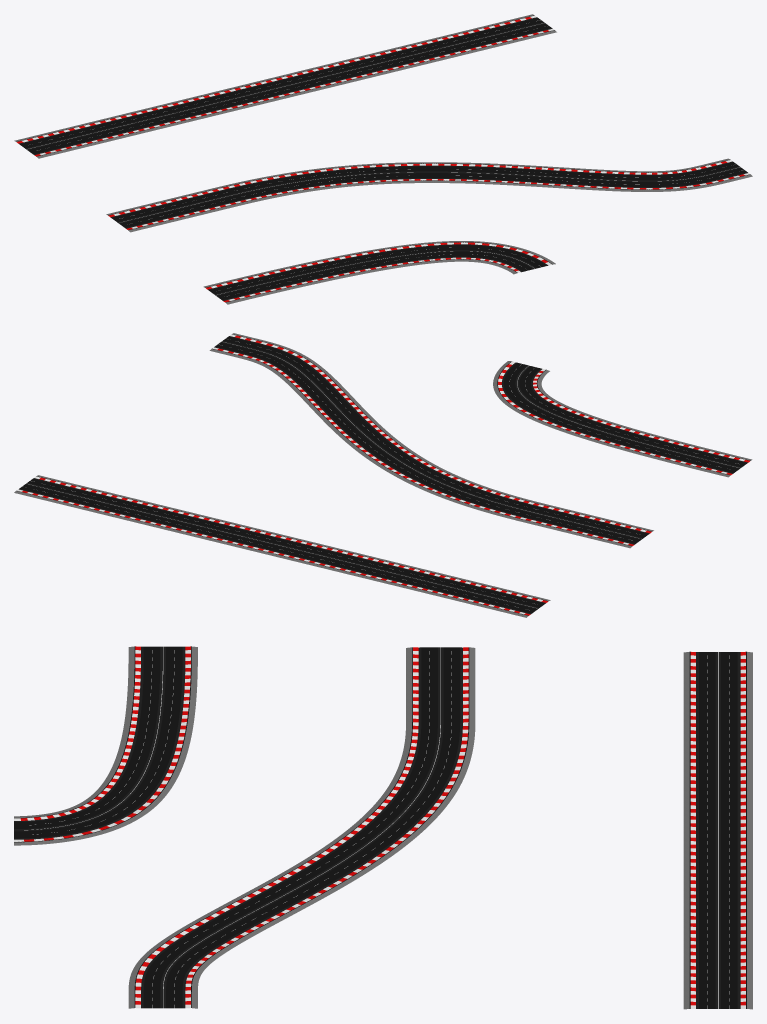
Rendered from S0.1c2-2c3-3r1-triway.glb.
The picture shows the model from 3 angles, top to bottom: view 1: azimuth 30°, elevation 25°; view 2: azimuth 150°, elevation 25°; view 3: azimuth 270°, elevation 25°; orthographic projection. The views are drawn at different scales.
Visible parts, largest first — view 1: Grid.001, Grid.002, Grid; view 2: Grid.001, Grid.002, Grid; view 3: Grid.001, Grid.002, Grid.
Boxes of the visible parts, <box> form: Grid.001: <box>106,158,752,232</box>; Grid.002: <box>14,14,556,158</box>; Grid: <box>203,241,555,304</box>; Grid.001: <box>209,333,653,548</box>; Grid.002: <box>14,475,550,617</box>; Grid: <box>493,361,752,477</box>; Grid.001: <box>128,647,475,1008</box>; Grid.002: <box>683,651,752,1009</box>; Grid: <box>14,646,197,845</box>.
Bounding box in the file's own units: 309 × 0.31 × 266.
